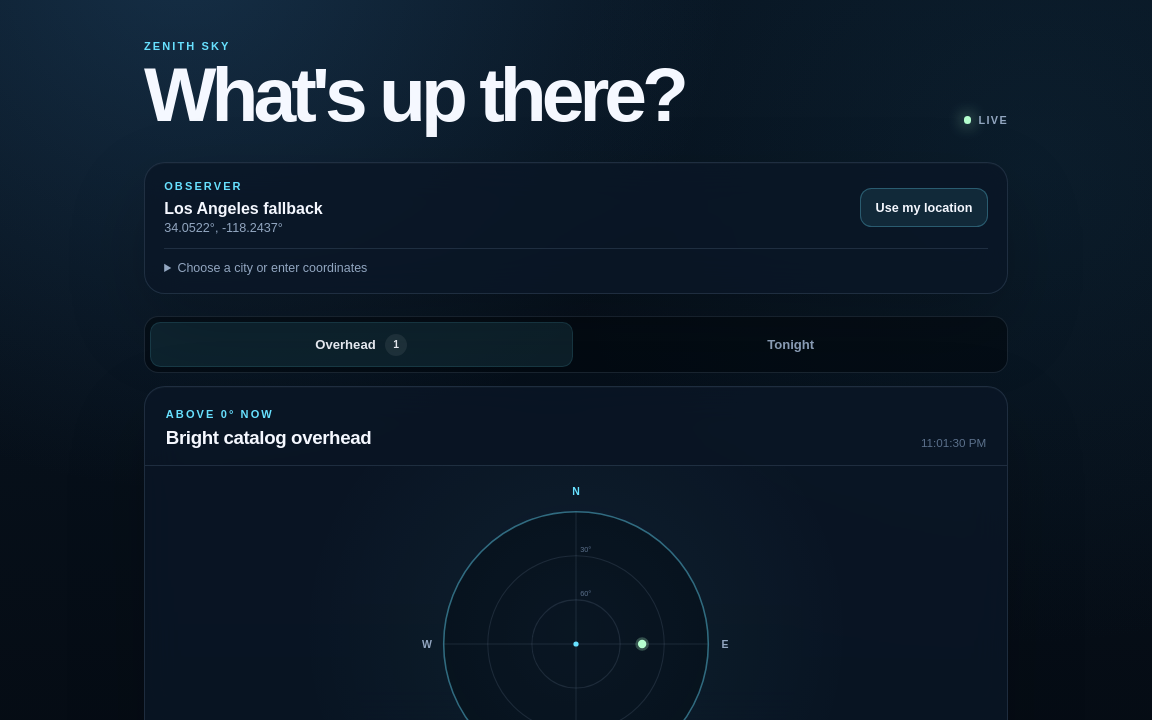
SkyApp location controls › explains geolocation error code 2
Click the button "Use my location".
click(924, 208)  # box [860,188,988,227]
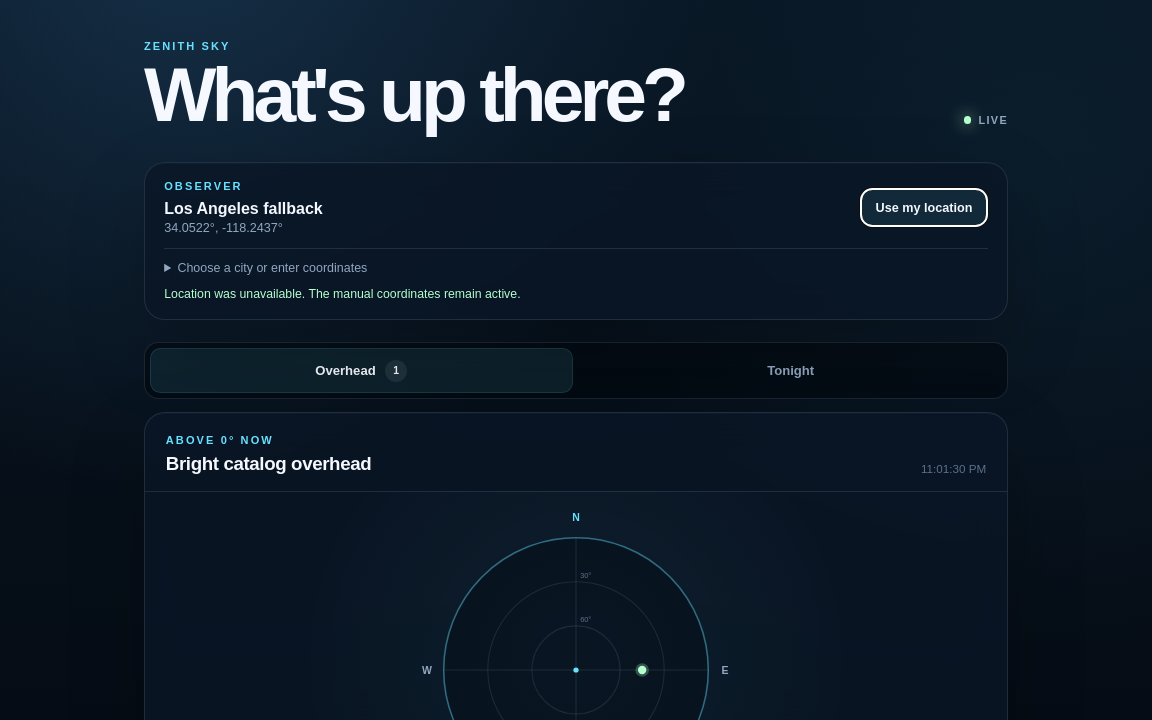
Now the text "Location was unavailable. The manual coordinates remain active." is shown, box [164,287,521,301]
